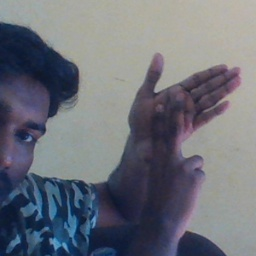N: (122, 50, 244, 197)
